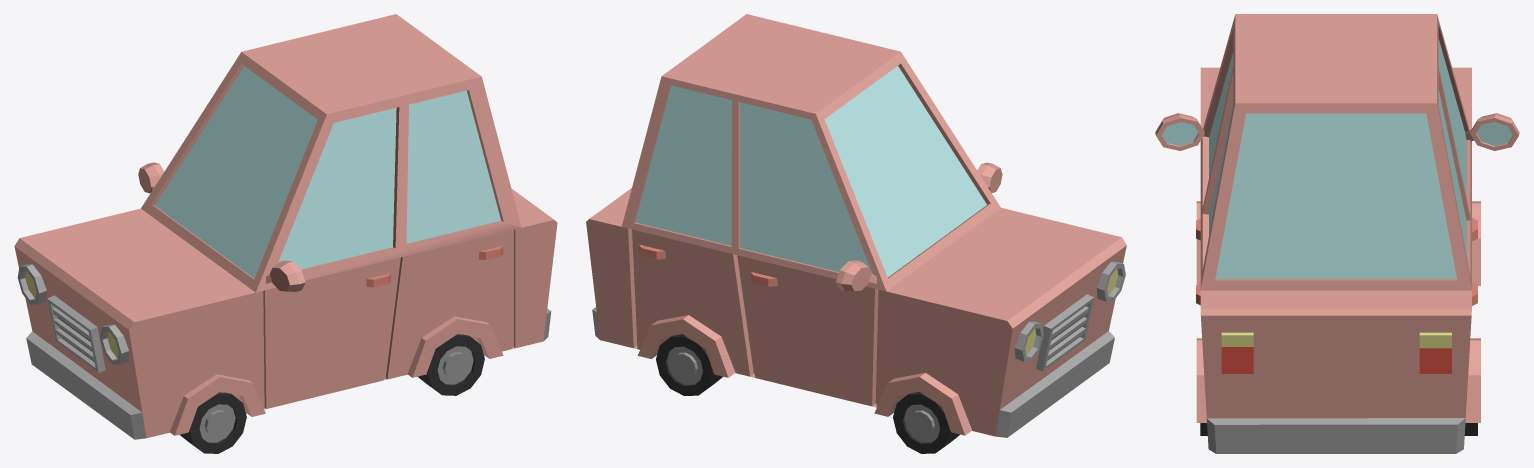
Rendered from car.fbx.
3 renders of one model, left to right at view 1: azimuth 30°, elevation 25°; view 2: azimuth 150°, elevation 25°; view 3: azimuth 270°, elevation 25°, orthographic. The views are drawn at different scales.
Parts seen in each view (by area): view 1: pCube1, pCylinder13, pCylinder14, pCube6, pCylinder6, pCylinder8, polySurface1, pCylinder10, pCylinder11, polySurface2; view 2: pCube1, pCylinder12, pCylinder2, pCylinder1, pCylinder3, pCube6, polySurface2, pCylinder11, pCylinder10; view 3: pCube1, polySurface2, polySurface1, pCube7, pCube8, pCylinder3, pCylinder6, pCylinder1.
Part boxes in pixels (x1,y1,x2,y2): pCube1: (14,14,557,439); pCylinder13: (418,334,484,395); pCylinder14: (180,392,246,453); pCube6: (47,295,105,372); pCylinder6: (407,316,503,377); pCylinder8: (170,374,265,435); polySurface1: (266,260,305,291); pCylinder10: (100,324,129,364); pCylinder11: (17,264,46,304); polySurface2: (138,162,164,193); pCube1: (586,14,1126,437); pCylinder12: (656,334,722,395); pCylinder2: (893,391,959,453); pCylinder1: (874,373,972,435); pCylinder3: (637,315,735,377); pCube6: (1036,294,1093,371); polySurface2: (836,260,876,291); pCylinder11: (1014,321,1043,361); pCylinder10: (1096,261,1125,301); pCube1: (1200,14,1471,453); polySurface2: (1465,113,1519,150); polySurface1: (1155,113,1205,150); pCube7: (1221,332,1253,373); pCube8: (1419,332,1451,373); pCylinder3: (1465,338,1480,422); pCylinder6: (1196,338,1206,422); pCylinder1: (1472,201,1480,285).
Bounding box in the file's own units: 355 × 233 × 218.
